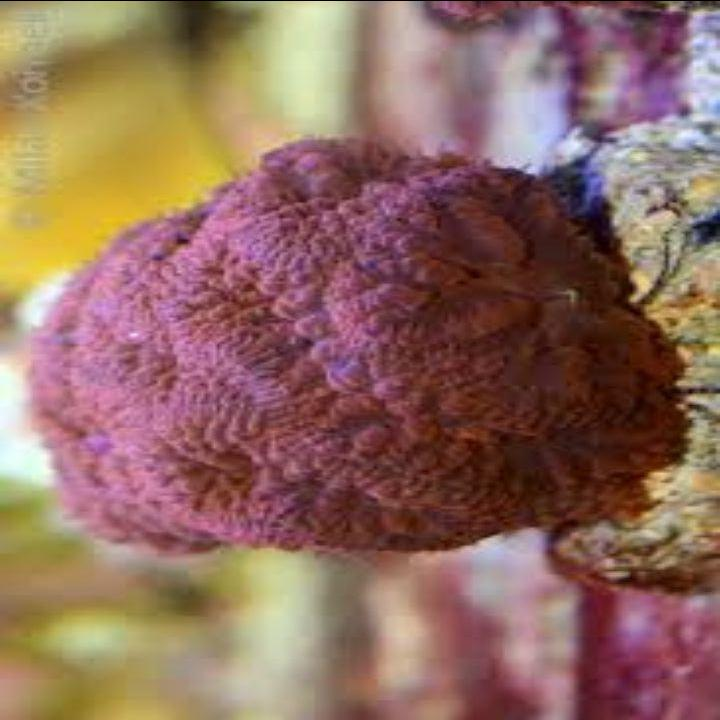Healthy Coral: (34, 110, 664, 565)
